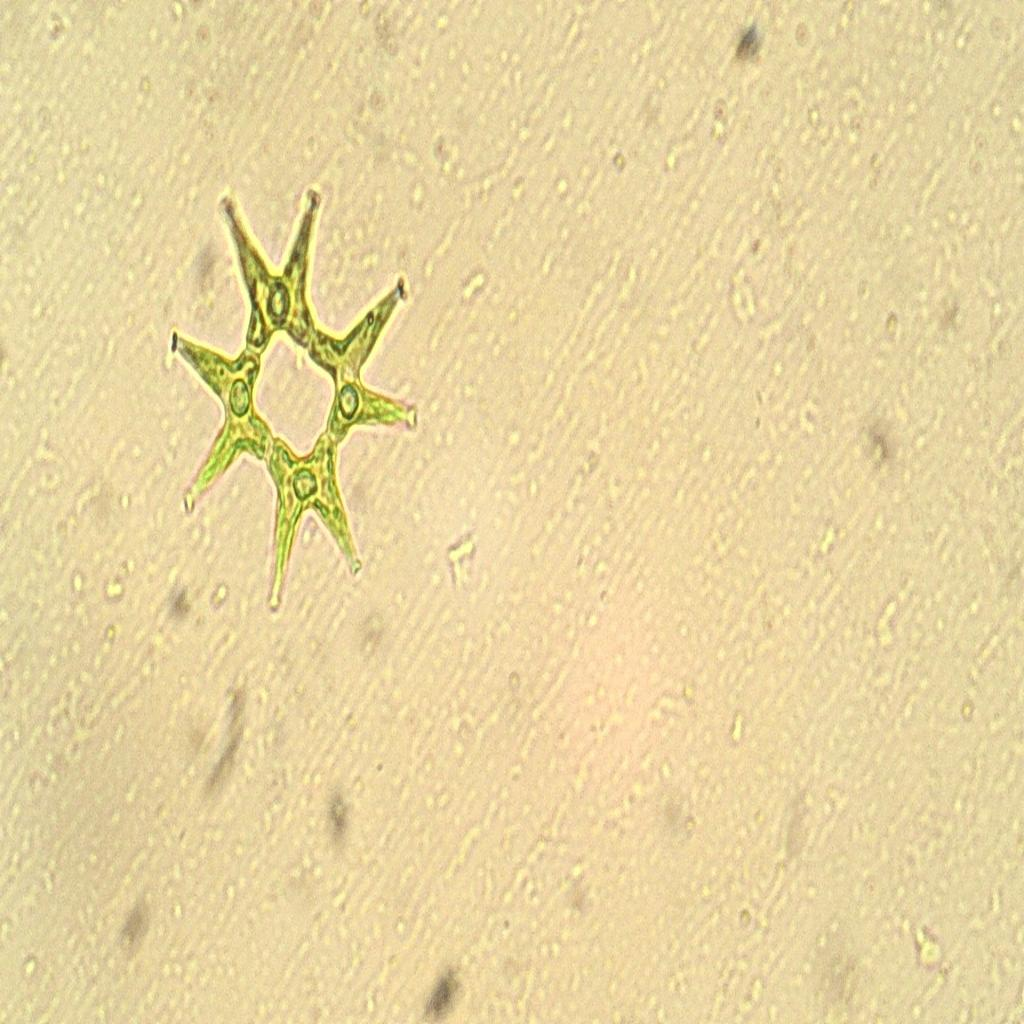Pediastrum_10: (155, 162, 432, 615)
